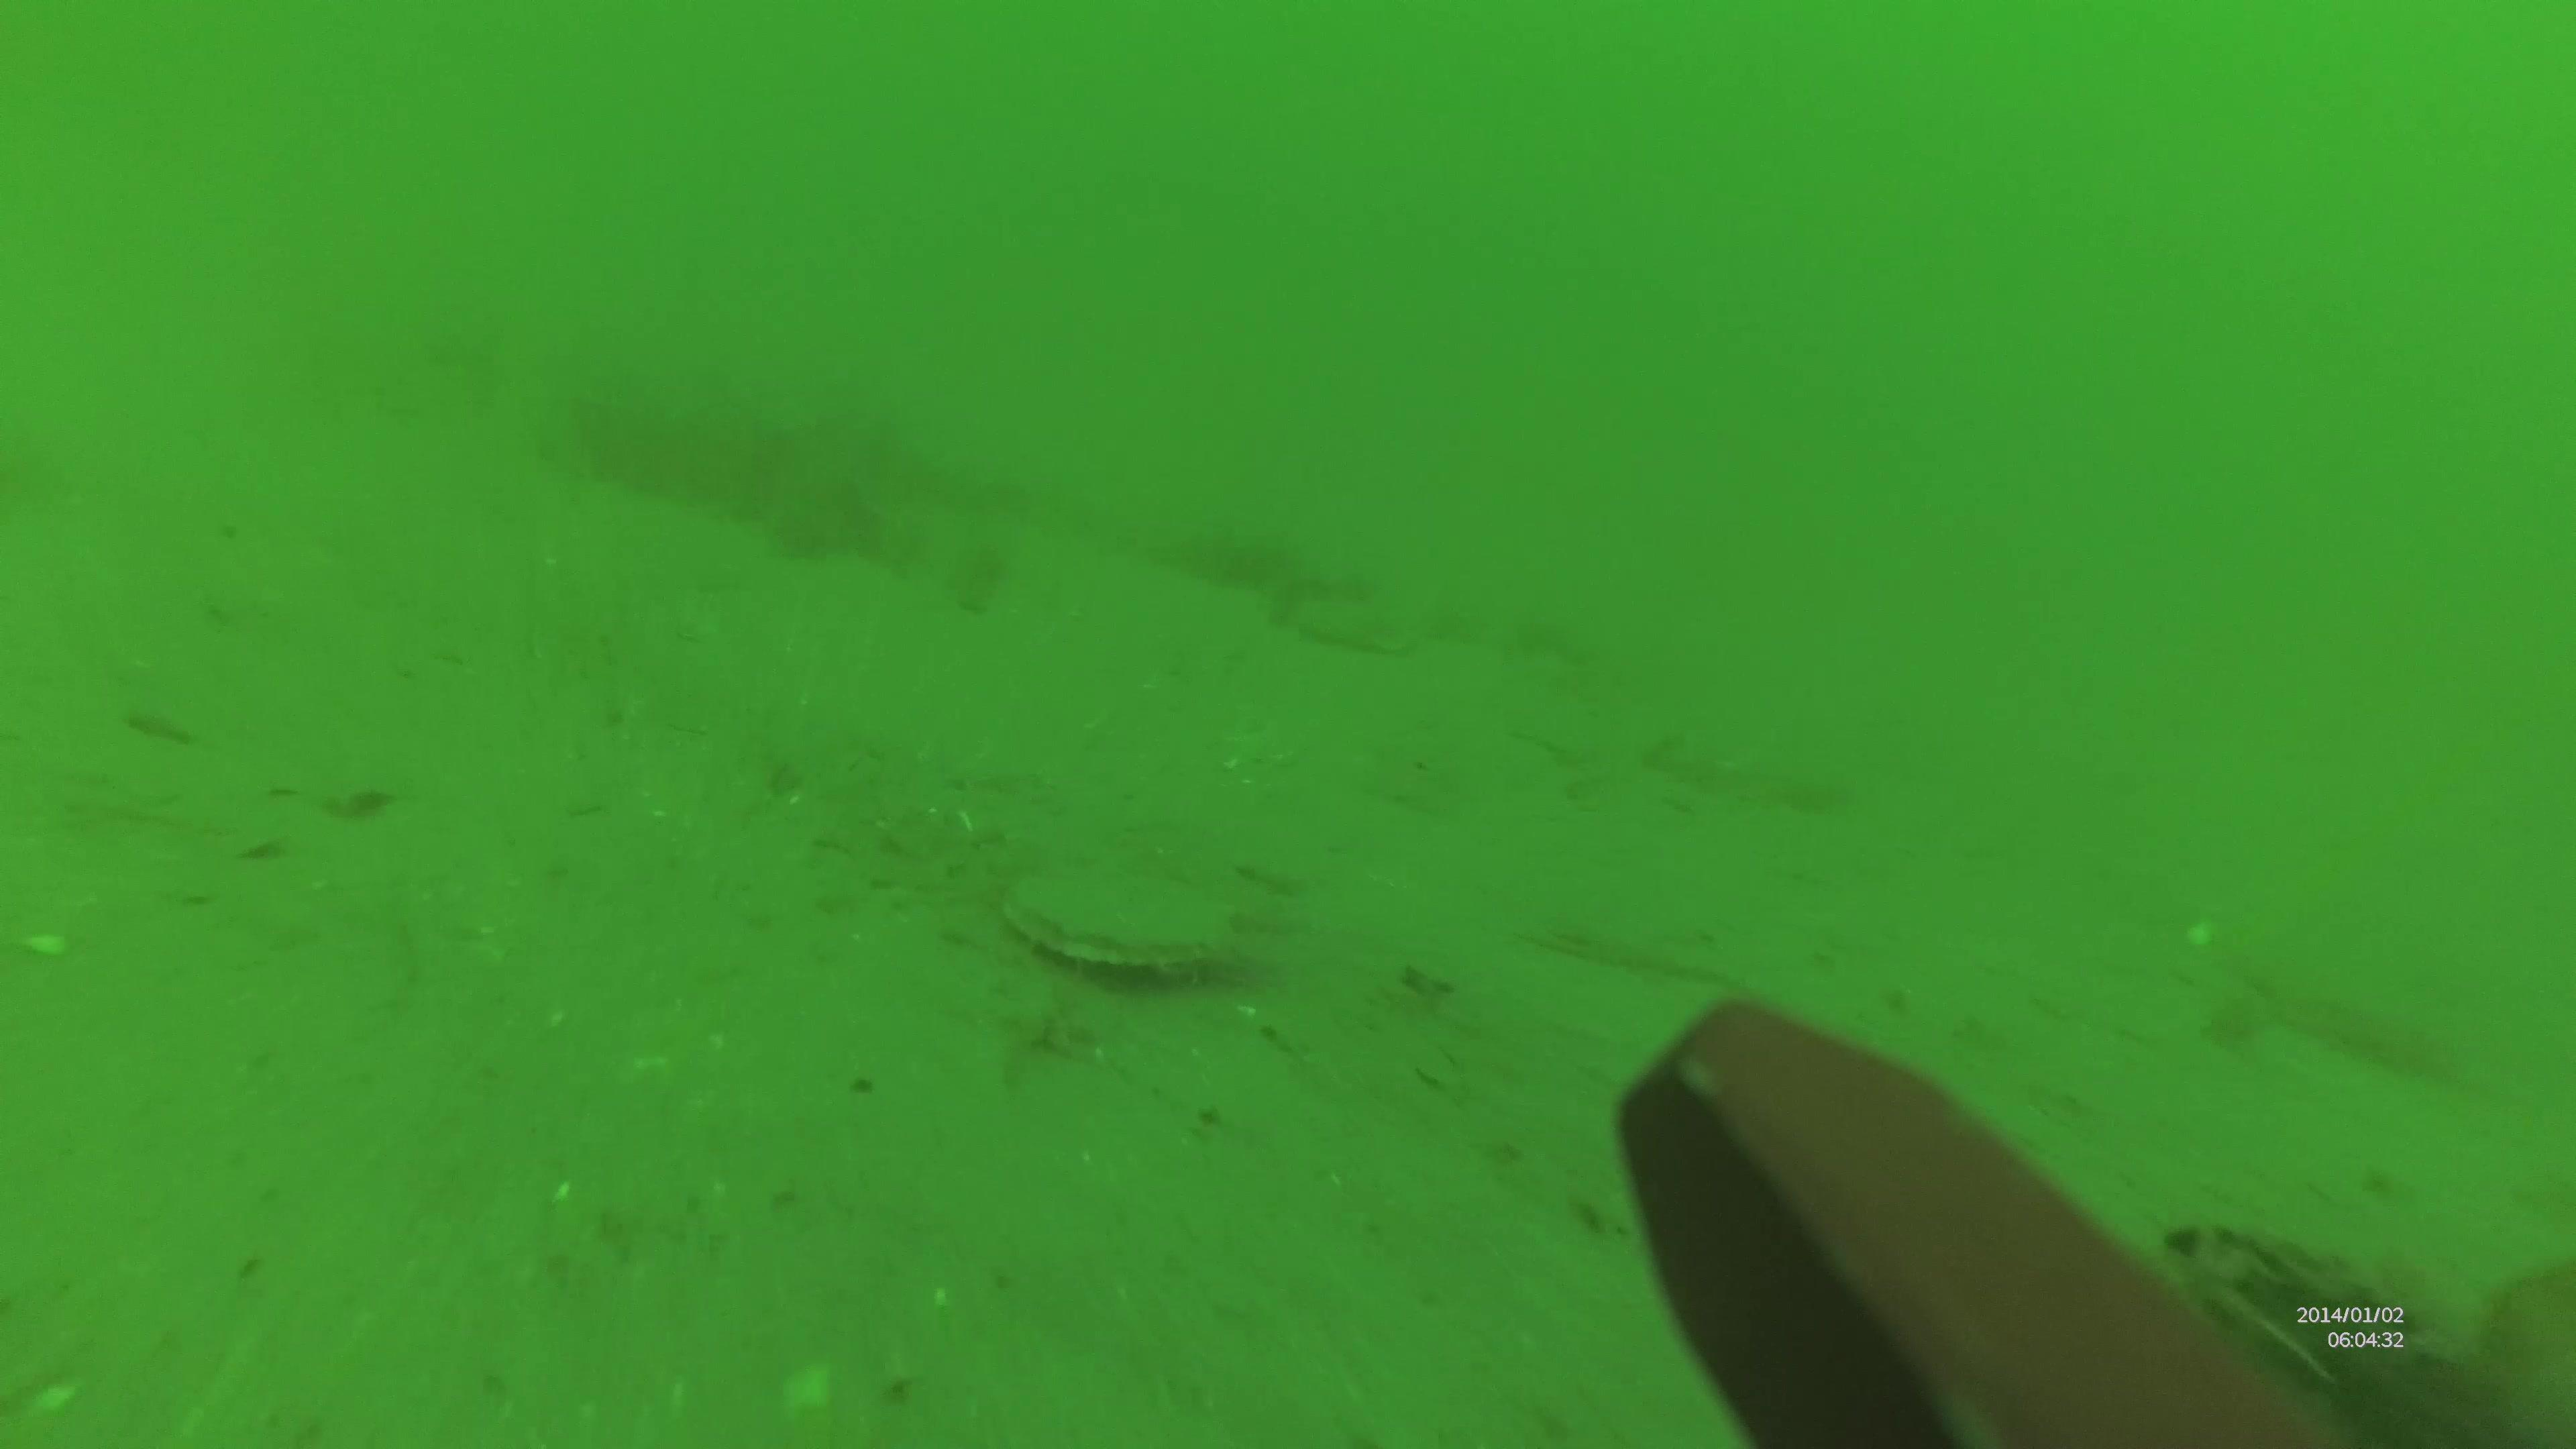scallop: (998, 869, 1251, 980)
